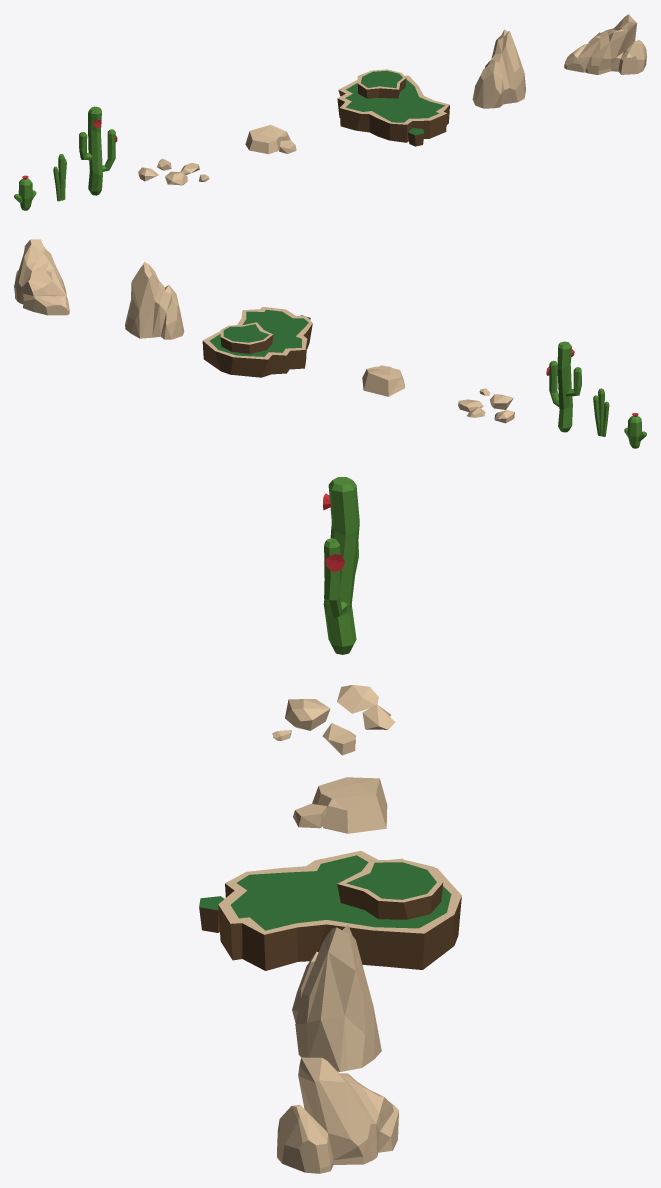
Rendered from nature_group.glb.
The picture shows the model from 3 angles, top to bottom: view 1: azimuth 30°, elevation 25°; view 2: azimuth 150°, elevation 25°; view 3: azimuth 270°, elevation 25°; orthographic projection. The views are drawn at different scales.
Parts seen in each view (by area): view 1: rock-terrasse, rock-large.002, stone-big-tall, cactus-big.001, stone-flat, rocks-small, cactus-basic, cactus-medium; view 2: rock-terrasse, stone-big-tall, rock-large.002, cactus-big.001, stone-flat, rocks-small, cactus-basic, cactus-medium; view 3: rock-terrasse, rock-large.002, stone-big-tall, cactus-big.001, stone-flat, rocks-small.
Boxes of the visible parts, x1,y1,x2,y2 form: rock-terrasse: (337, 69, 449, 146); rock-large.002: (564, 14, 646, 74); stone-big-tall: (472, 29, 525, 108); cactus-big.001: (79, 106, 117, 195); stone-flat: (245, 125, 296, 154); rocks-small: (138, 158, 209, 185); cactus-basic: (53, 154, 66, 201); cactus-medium: (14, 175, 36, 210); rock-terrasse: (202, 306, 312, 377); stone-big-tall: (125, 262, 184, 339); rock-large.002: (14, 239, 69, 315); cactus-big.001: (546, 341, 581, 432); stone-flat: (362, 365, 405, 396); rocks-small: (458, 388, 514, 423); cactus-basic: (593, 388, 609, 436); cactus-medium: (624, 413, 646, 448); rock-terrasse: (199, 851, 461, 970); rock-large.002: (277, 1057, 398, 1173); stone-big-tall: (292, 925, 381, 1071); cactus-big.001: (323, 477, 359, 654); stone-flat: (293, 777, 387, 833); rocks-small: (272, 685, 395, 755).
Bounding box in the file's own units: 34.53 × 4.62 × 6.3.
